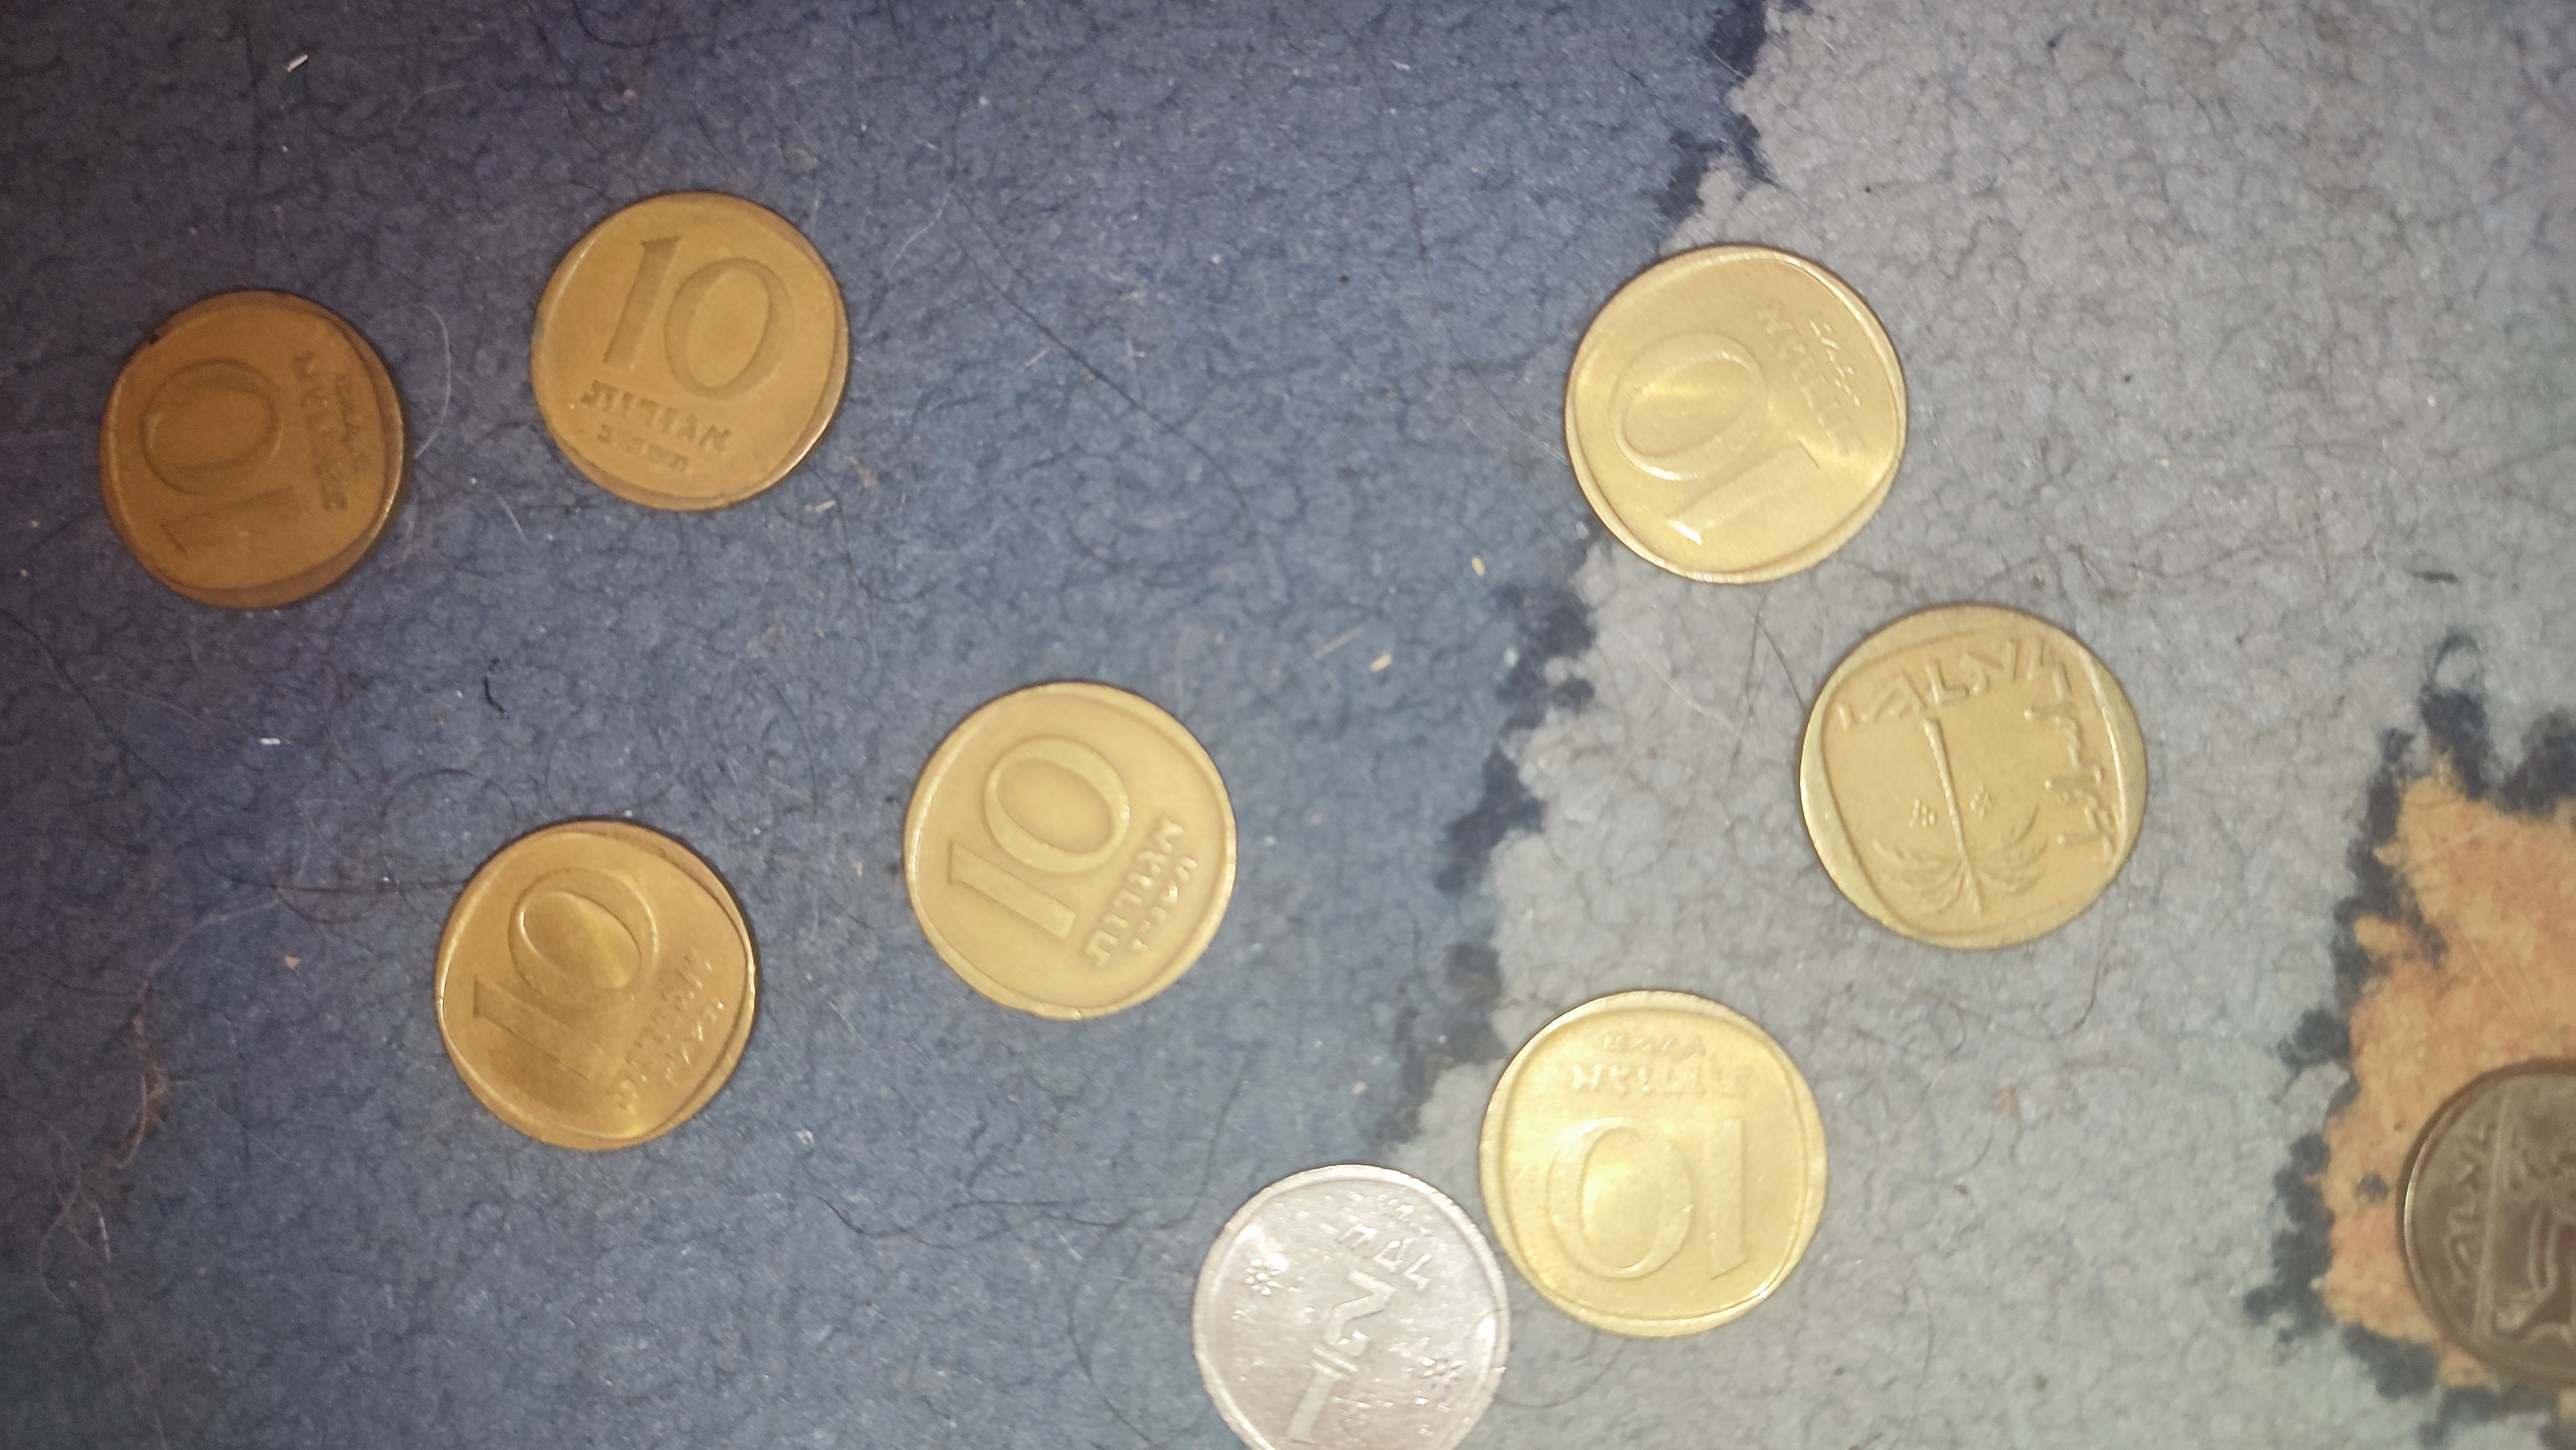1/2 old sheqel: (1187, 1162, 1513, 1450)
10 old agora brown: (1792, 594, 2162, 964), (1468, 978, 1831, 1347), (1555, 232, 1916, 585), (895, 675, 1238, 1024), (425, 810, 768, 1158), (88, 279, 412, 628), (525, 186, 856, 518)
